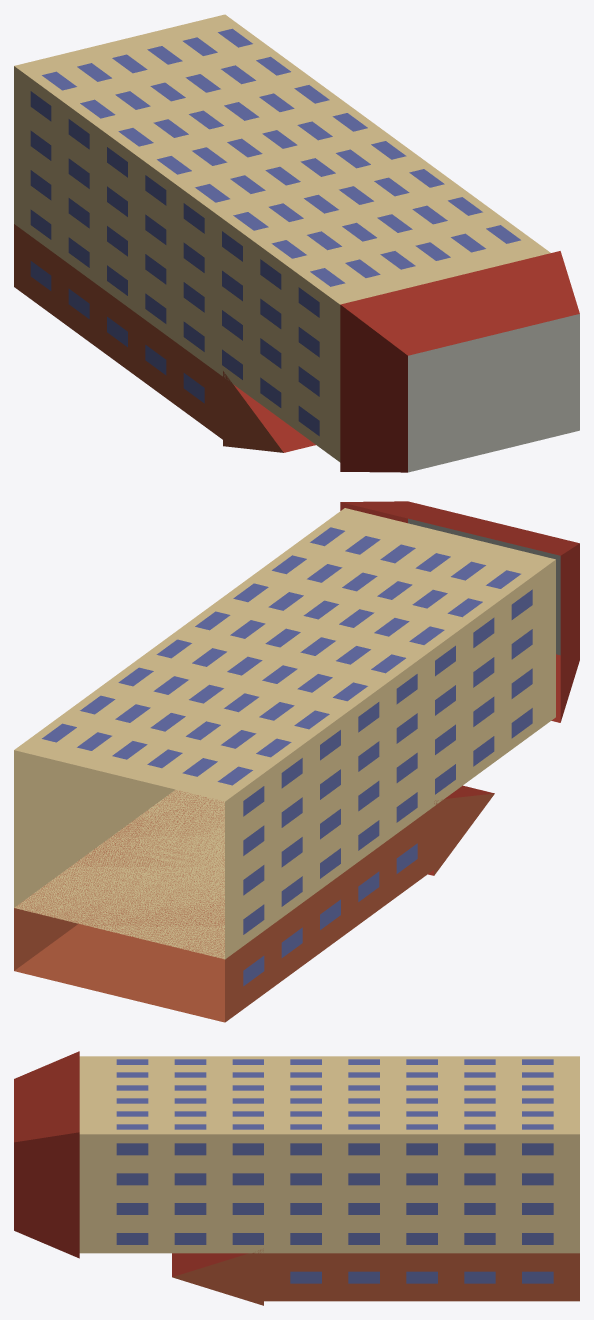
The model's file is complete.glb.
The picture shows the model from 3 angles, top to bottom: view 1: azimuth 30°, elevation 25°; view 2: azimuth 150°, elevation 25°; view 3: azimuth 270°, elevation 25°; orthographic projection. The views are drawn at different scales.
Visible parts, largest first — view 1: done; view 2: done; view 3: done.
Part boxes in pixels (x1,y1,x2,y2): done: (14, 14, 579, 472); done: (14, 501, 579, 1022); done: (14, 1051, 579, 1305).
Size of the model in its own units: 14.6 by 14.7 by 43.
